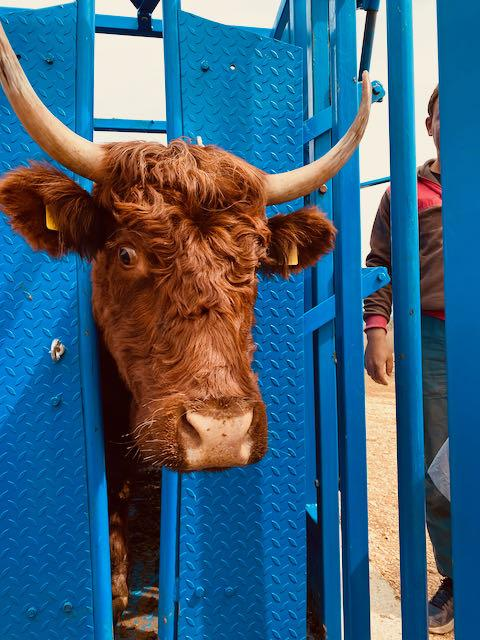muzzles: (155, 393, 268, 476)
